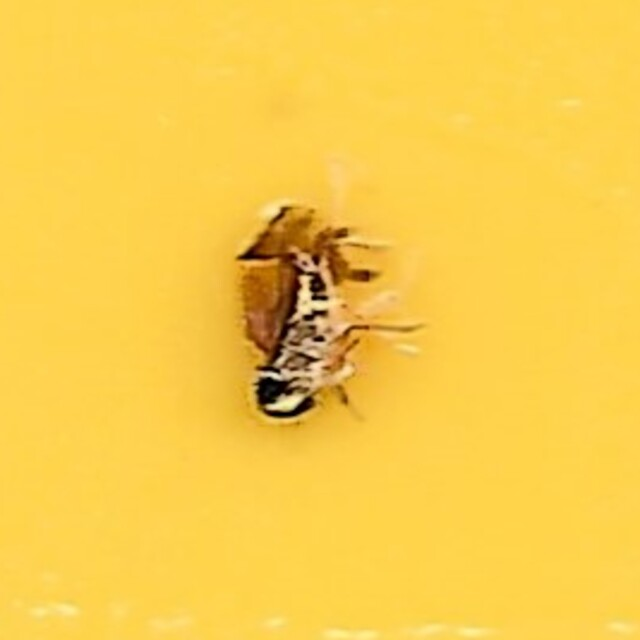Hemiptera: (240, 207, 400, 433)
